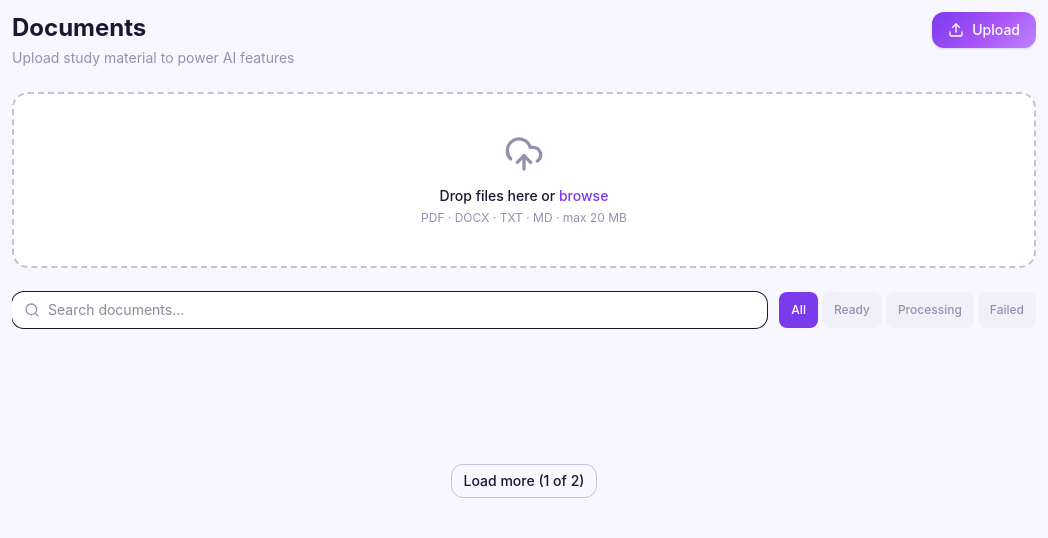
Test case: DocumentsPage › pagination › fetches the next page with incremented page number when Load more is clicked
Click the button "Load more (1 of 2)" at (524, 481), box [451,464,598,498]
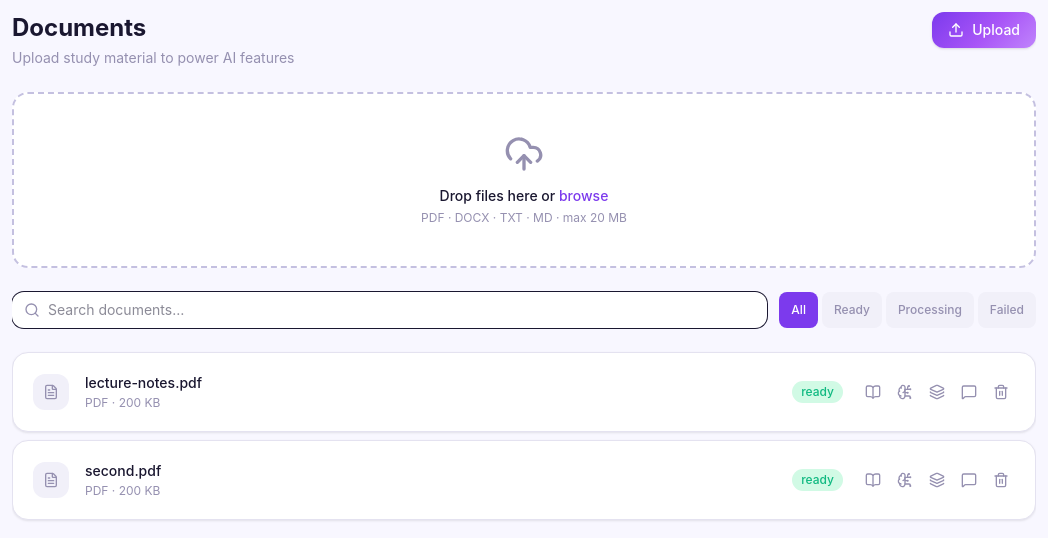
Now the text "second.pdf" is shown, box [85,462,161,479]
